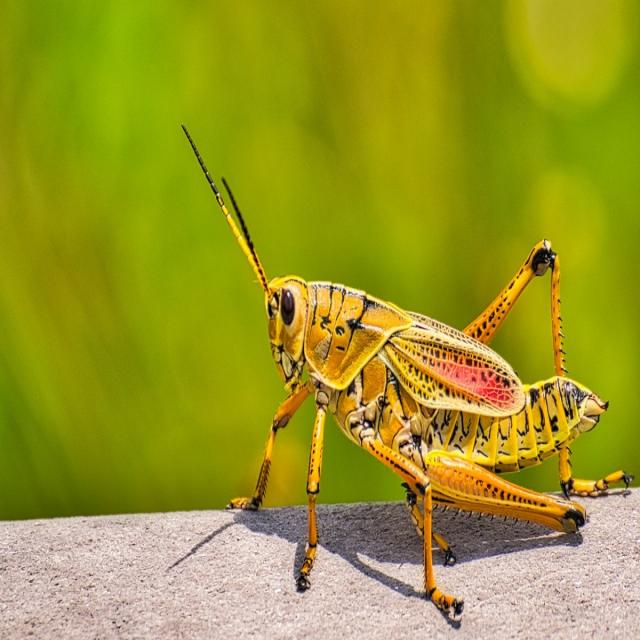ZhaMeng: (152, 108, 605, 620)
